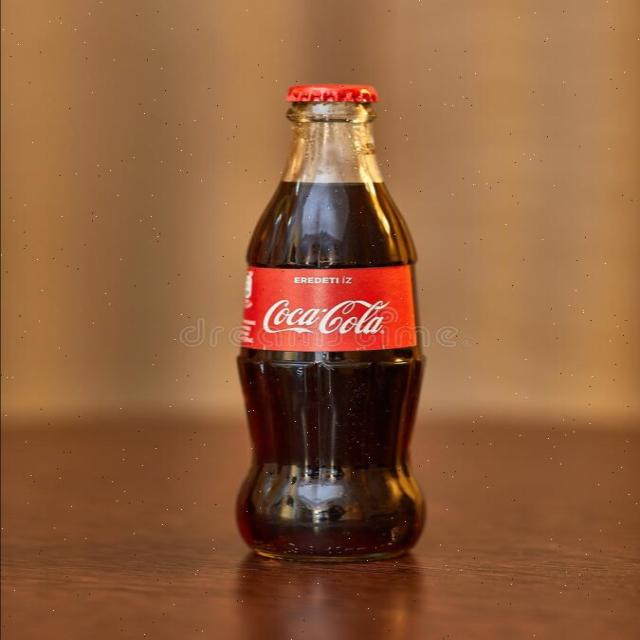coca-cola: (227, 82, 433, 569)
